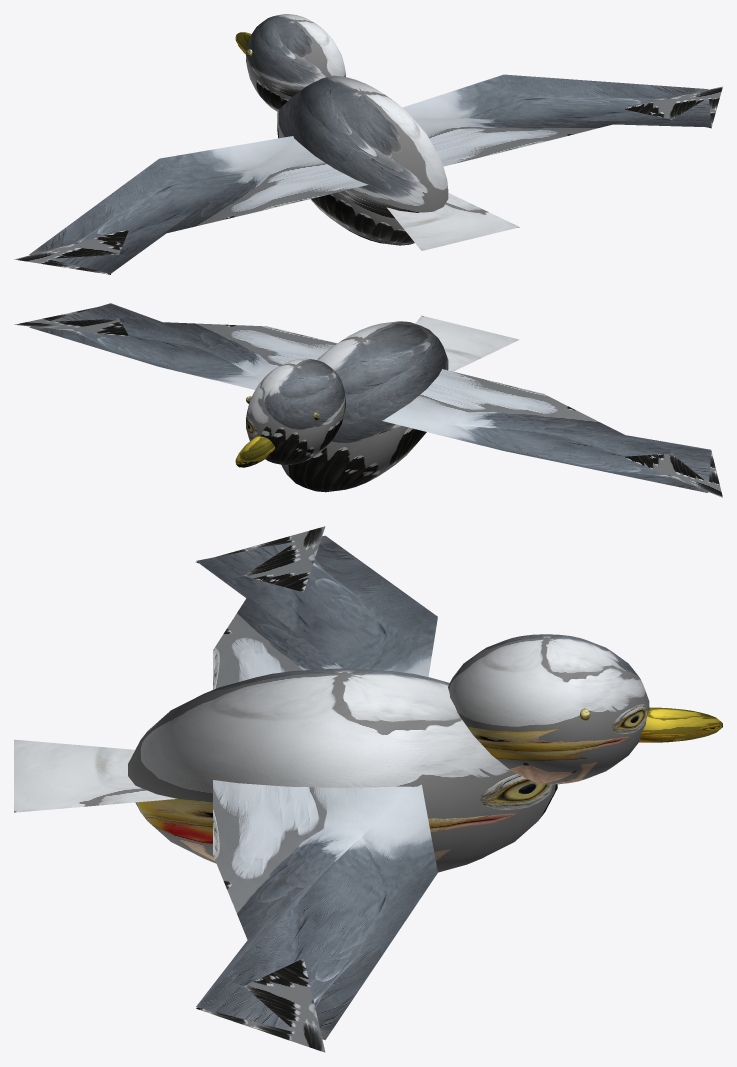
The model's file is coastal_gull.glb.
3 renders of one model, top to bottom at view 1: azimuth 30°, elevation 25°; view 2: azimuth 150°, elevation 25°; view 3: azimuth 270°, elevation 25°, orthographic. The views are drawn at different scales.
Parts seen in each view (by area): view 1: BatchedSurface, FlightFeathers, FlightFeathers2, _MeshInstance3D_10, WingTip, WingTip2; view 2: BatchedSurface, FlightFeathers, FlightFeathers2, _MeshInstance3D_10, WingTip, WingTip2, _MeshInstance3D_7; view 3: BatchedSurface, FlightFeathers2, FlightFeathers, _MeshInstance3D_10, WingTip2, WingTip, _MeshInstance3D_7.
Part boxes in pixels (<box>): BatchedSurface: <box>246,14,448,245</box>; FlightFeathers: <box>29,136,368,273</box>; FlightFeathers2: <box>402,74,711,166</box>; _MeshInstance3D_10: <box>387,193,519,250</box>; WingTip: <box>14,229,129,274</box>; WingTip2: <box>622,86,722,128</box>; BatchedSurface: <box>246,321,448,492</box>; FlightFeathers: <box>382,369,711,492</box>; FlightFeathers2: <box>29,303,337,389</box>; _MeshInstance3D_10: <box>415,315,519,371</box>; WingTip: <box>622,451,722,497</box>; WingTip2: <box>14,307,128,336</box>; _MeshInstance3D_7: <box>235,436,275,467</box>; BatchedSurface: <box>128,634,649,872</box>; FlightFeathers2: <box>196,780,437,1040</box>; FlightFeathers: <box>196,535,437,689</box>; _MeshInstance3D_10: <box>14,739,176,812</box>; WingTip2: <box>196,958,325,1052</box>; WingTip: <box>196,526,325,592</box>; _MeshInstance3D_7: <box>639,707,722,742</box>.
Size of the model in its own units: 1.44 by 0.305 by 0.8194.
9 materials, 8 textured.
